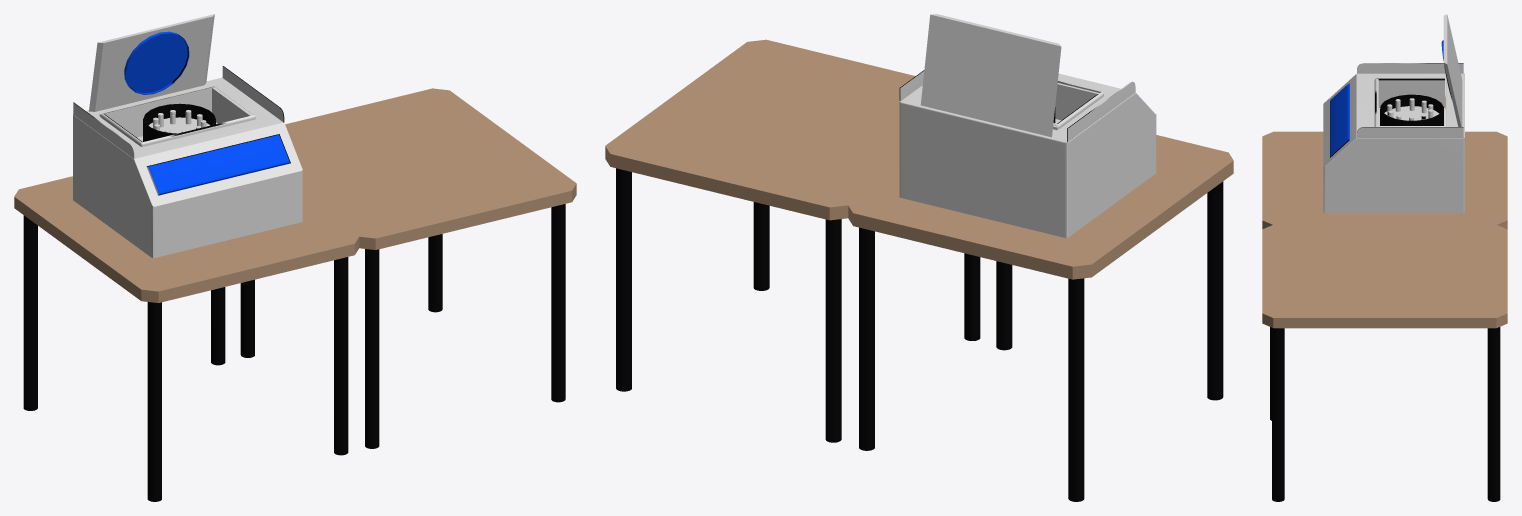
File: CentrifudgeArea.fbx
3 views of the same model, side by side, from view 1: azimuth 30°, elevation 25°; view 2: azimuth 150°, elevation 25°; view 3: azimuth 270°, elevation 25° (orthographic). The views are drawn at different scales.
Visible parts, largest first — view 1: TableTop.003; view 2: TableTop.003; view 3: TableTop.003.
Part boxes in pixels (x1,y1,x2,y2): TableTop.003: [14, 14, 576, 501]; TableTop.003: [605, 14, 1233, 501]; TableTop.003: [1262, 14, 1507, 501].
Size of the model in its own units: 207 by 171 by 115.
Materials: 1 (1 with a texture image).
